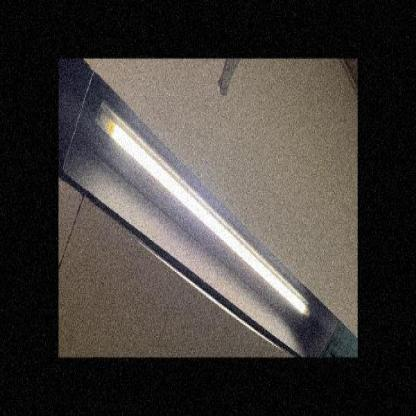light_on: (92, 98, 315, 323)
